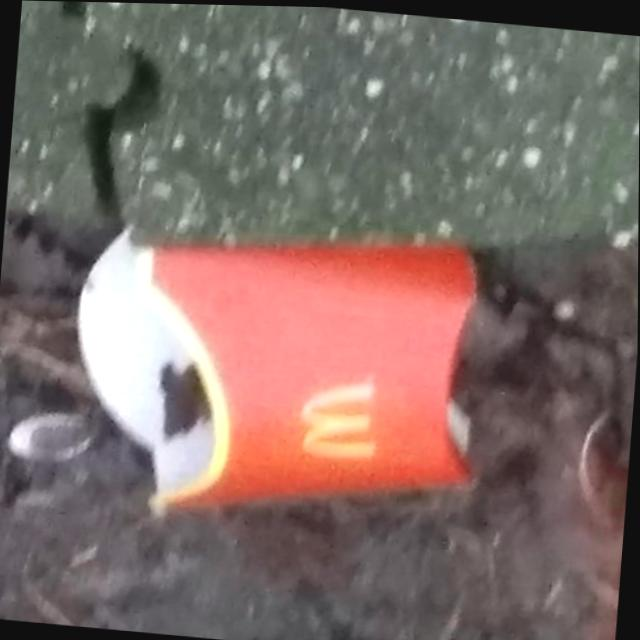Paper: (59, 210, 500, 555)
